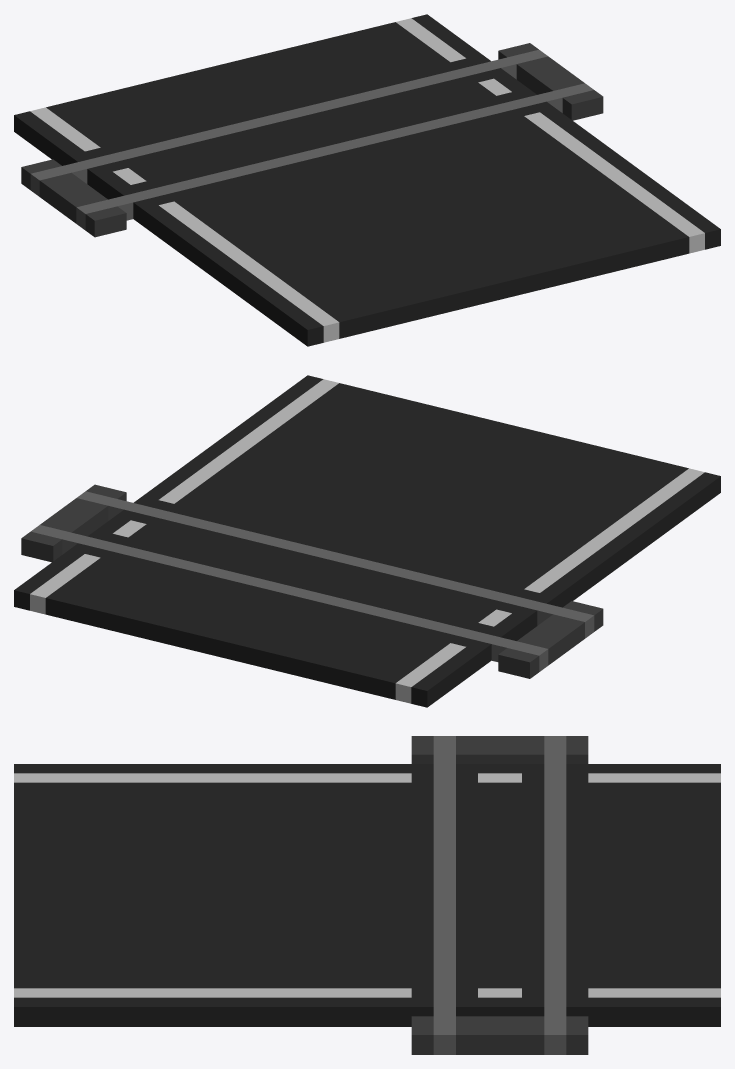
Rendered from track-road-intersection-2.gltf.
3 renders of one model, top to bottom at view 1: azimuth 30°, elevation 25°; view 2: azimuth 150°, elevation 25°; view 3: azimuth 270°, elevation 25°, orthographic. The views are drawn at different scales.
Parts seen in each view (by area): view 1: track-road-intersection-2_model; view 2: track-road-intersection-2_model; view 3: track-road-intersection-2_model.
Part boxes in pixels (left/top/right/bottom): track-road-intersection-2_model: left=14, top=14, right=720, bottom=346; track-road-intersection-2_model: left=14, top=375, right=720, bottom=707; track-road-intersection-2_model: left=14, top=736, right=720, bottom=1054.
Size of the model in its own units: 3.2 by 0.1 by 3.2.
1 material, 1 textured.
